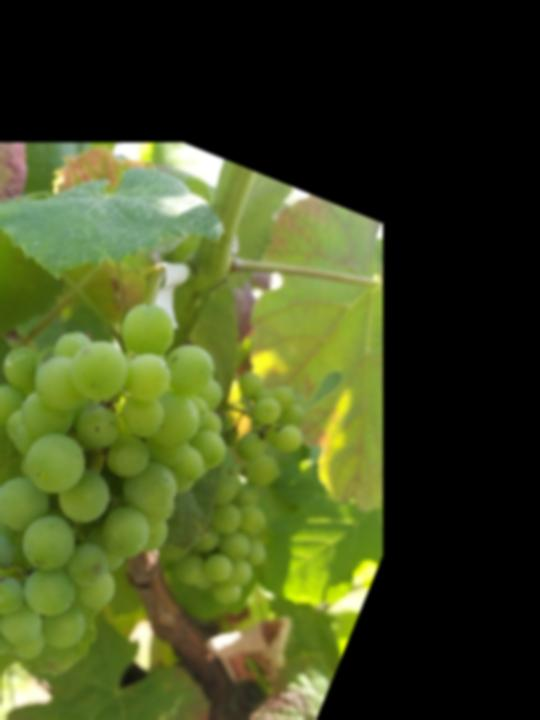grape: (0, 253, 270, 720)
